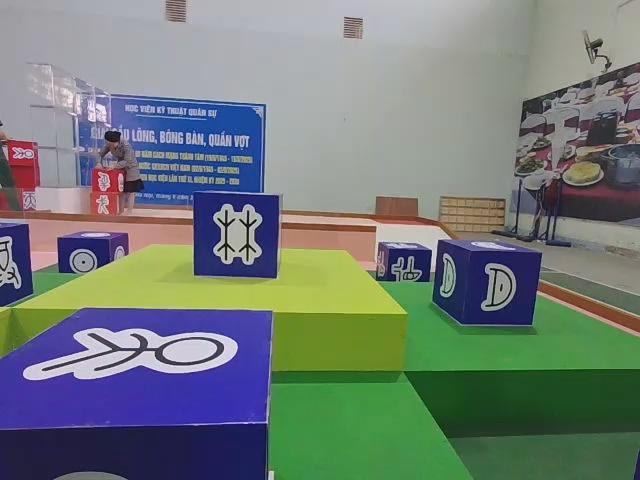R2 Real Blue: (2, 306, 273, 480), (434, 239, 542, 327), (192, 191, 281, 280), (56, 233, 129, 276), (0, 223, 32, 314), (377, 243, 434, 284)
